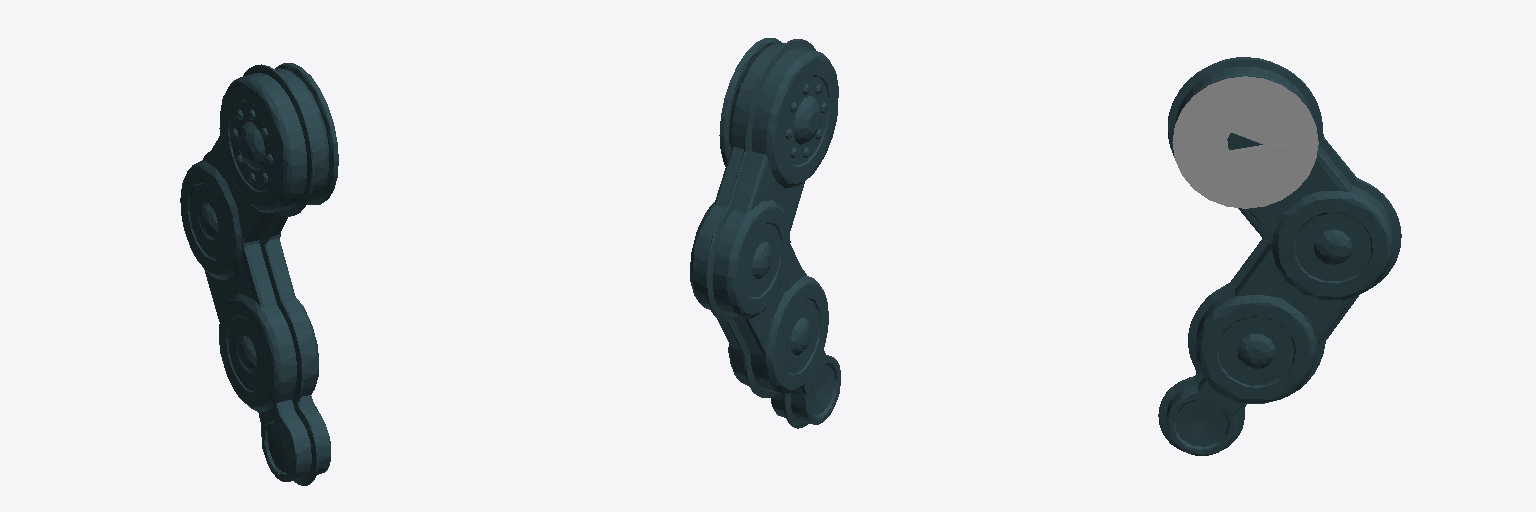
3 views of the same model, side by side, from view 1: azimuth 30°, elevation 25°; view 2: azimuth 150°, elevation 25°; view 3: azimuth 270°, elevation 25° (orthographic).
Visible parts, largest first — view 1: brazo_izq_11696_robot_v1_L3.001; view 2: brazo_izq_11696_robot_v1_L3.001; view 3: brazo_izq_11696_robot_v1_L3.001.
Part boxes in pixels (bbox=[...]): brazo_izq_11696_robot_v1_L3.001: bbox=[180, 63, 338, 485]; brazo_izq_11696_robot_v1_L3.001: bbox=[690, 38, 840, 428]; brazo_izq_11696_robot_v1_L3.001: bbox=[1158, 57, 1401, 455].
Bounding box in the file's own units: 0.021 × 0.1368 × 0.0761.
2 materials, 1 textured.